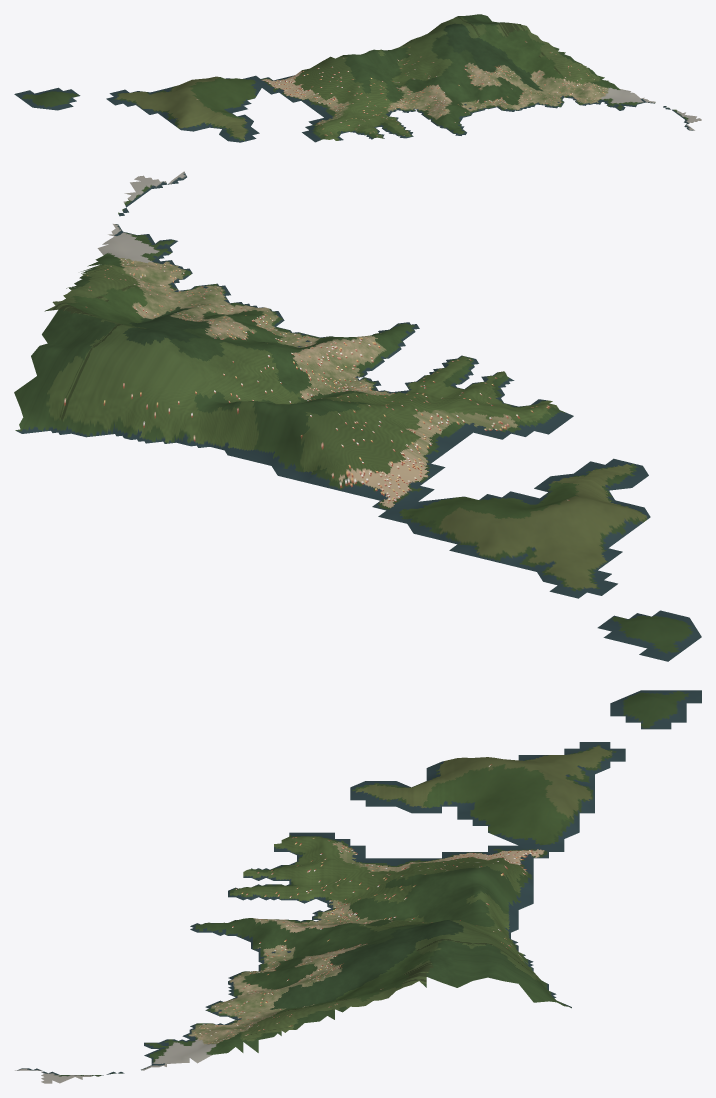
File: SM_Fondale_Colline_S_LOD1.fbx
The picture shows the model from 3 angles, top to bottom: view 1: azimuth 30°, elevation 25°; view 2: azimuth 150°, elevation 25°; view 3: azimuth 270°, elevation 25°; orthographic projection. The views are drawn at different scales.
Parts seen in each view (by area): view 1: SM_Fondale_Colline_S_LOD1; view 2: SM_Fondale_Colline_S_LOD1; view 3: SM_Fondale_Colline_S_LOD1.
Part boxes in pixels (bbox=[...]): SM_Fondale_Colline_S_LOD1: bbox=[14, 14, 701, 142]; SM_Fondale_Colline_S_LOD1: bbox=[14, 171, 701, 661]; SM_Fondale_Colline_S_LOD1: bbox=[15, 690, 701, 1083].
Size of the model in its own units: 732000 by 540000 by 50607.
1 material, 1 textured.
